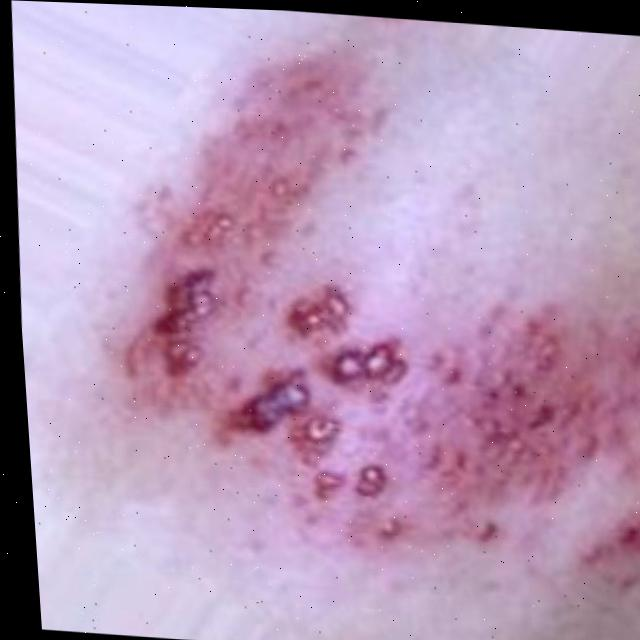Shingles: (105, 62, 640, 583)
